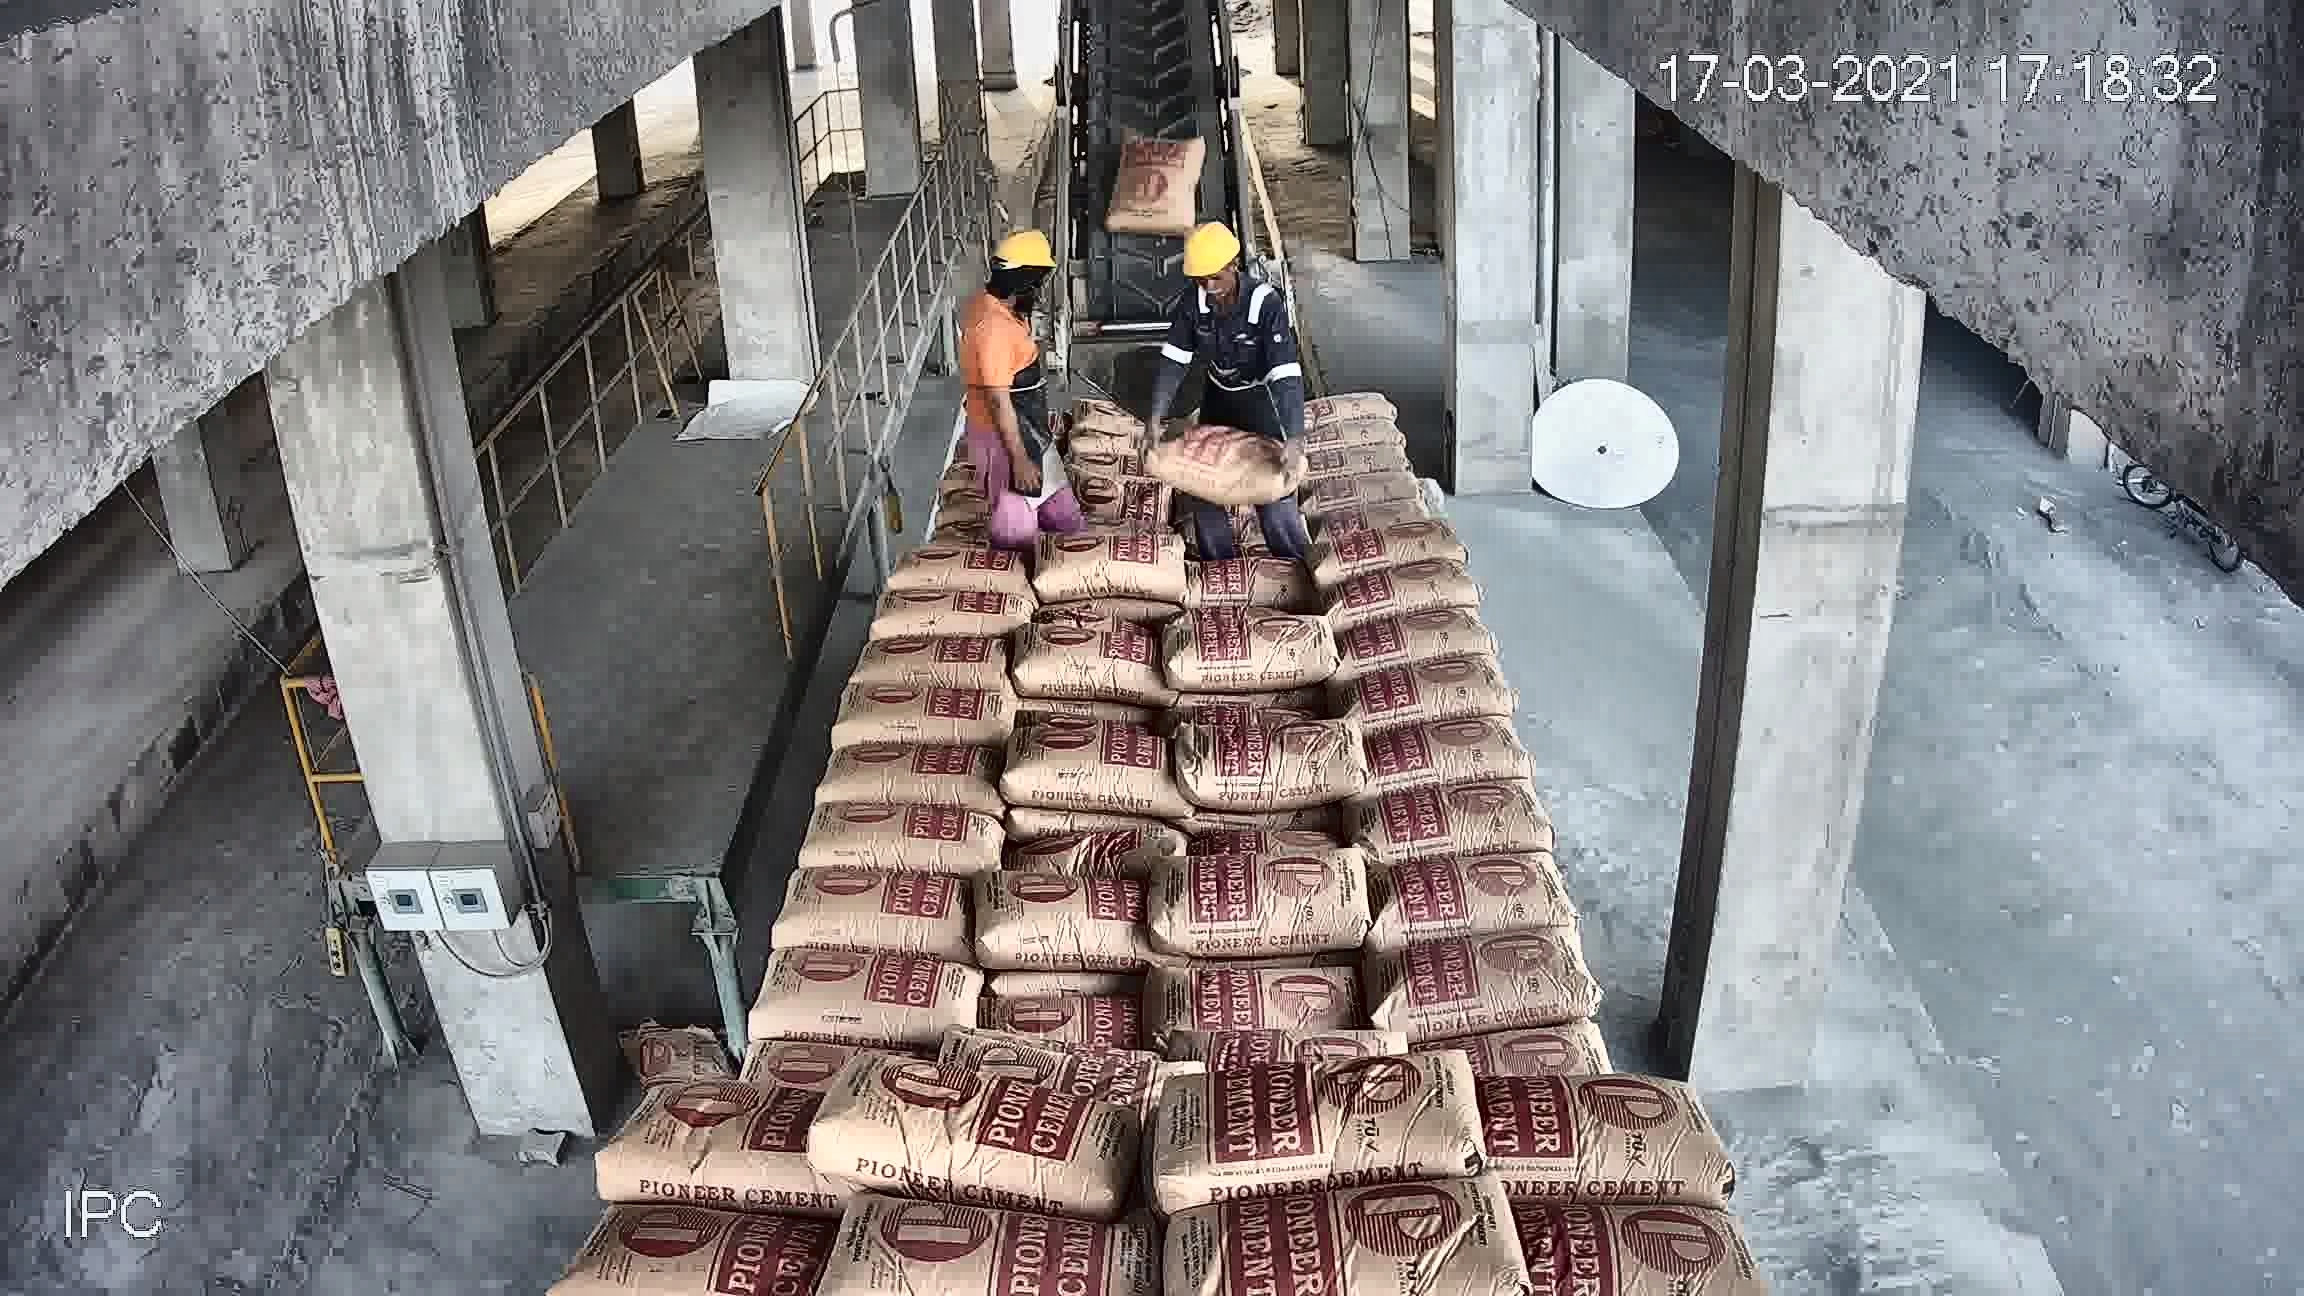bag: (1108, 127, 1203, 229)
bag_h: (1136, 1040, 1486, 1199), (805, 1067, 1149, 1195), (604, 1067, 829, 1211), (1155, 840, 1378, 972), (1483, 1079, 1714, 1187), (747, 942, 992, 1040), (1358, 940, 1609, 1035), (761, 858, 975, 967), (1342, 864, 1582, 951), (973, 869, 1166, 976), (1138, 949, 1374, 1036), (1332, 771, 1551, 862), (1173, 707, 1358, 807), (786, 801, 1021, 877), (1158, 1021, 1415, 1087), (1000, 718, 1193, 801), (945, 1017, 1206, 1078), (826, 674, 1025, 748), (1030, 521, 1192, 611), (1328, 654, 1519, 726), (1348, 711, 1540, 783), (1161, 619, 1340, 695), (1154, 411, 1302, 500), (851, 571, 1033, 642), (1003, 805, 1165, 885), (1332, 543, 1487, 625), (1336, 595, 1503, 669), (810, 744, 1011, 805), (850, 623, 1021, 693), (997, 987, 1158, 1052), (1313, 506, 1468, 573), (1017, 628, 1158, 699), (1182, 533, 1310, 611), (1461, 1030, 1627, 1082), (878, 535, 1029, 587), (1305, 491, 1454, 535), (1285, 464, 1431, 503), (1309, 440, 1423, 484), (1298, 380, 1412, 419), (1290, 419, 1418, 453), (1070, 415, 1139, 462), (1055, 459, 1135, 500)
belt: (1055, 22, 1247, 380)
